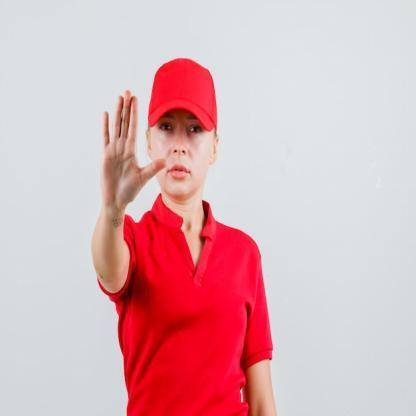stop: (101, 90, 168, 214)
